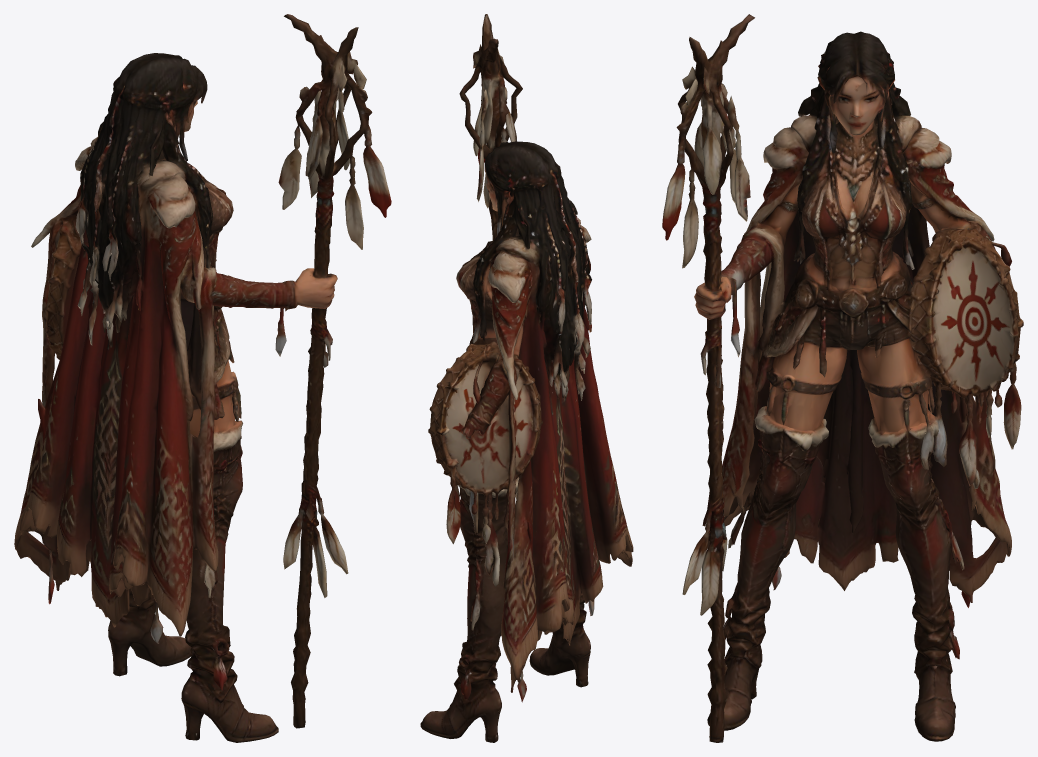
File: drumcaller2_T1-tripo.glb
3 views of the same model, side by side, from view 1: azimuth 30°, elevation 25°; view 2: azimuth 150°, elevation 25°; view 3: azimuth 270°, elevation 25° (orthographic). The views are drawn at different scales.
Visible parts, largest first — view 1: tripo_node_e597d9b1-88fa-4082-8751-5389c5a49ef7; view 2: tripo_node_e597d9b1-88fa-4082-8751-5389c5a49ef7; view 3: tripo_node_e597d9b1-88fa-4082-8751-5389c5a49ef7.
Part boxes in pixels (box(x1,y1,x2,y2)): tripo_node_e597d9b1-88fa-4082-8751-5389c5a49ef7: box(14, 14, 391, 742); tripo_node_e597d9b1-88fa-4082-8751-5389c5a49ef7: box(420, 14, 633, 742); tripo_node_e597d9b1-88fa-4082-8751-5389c5a49ef7: box(662, 14, 1023, 742).
Size of the model in its own units: 0.3455 by 1 by 0.4469.
1 material, 1 textured.
